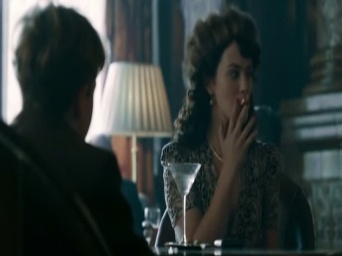smoke: (240, 94, 245, 108)
